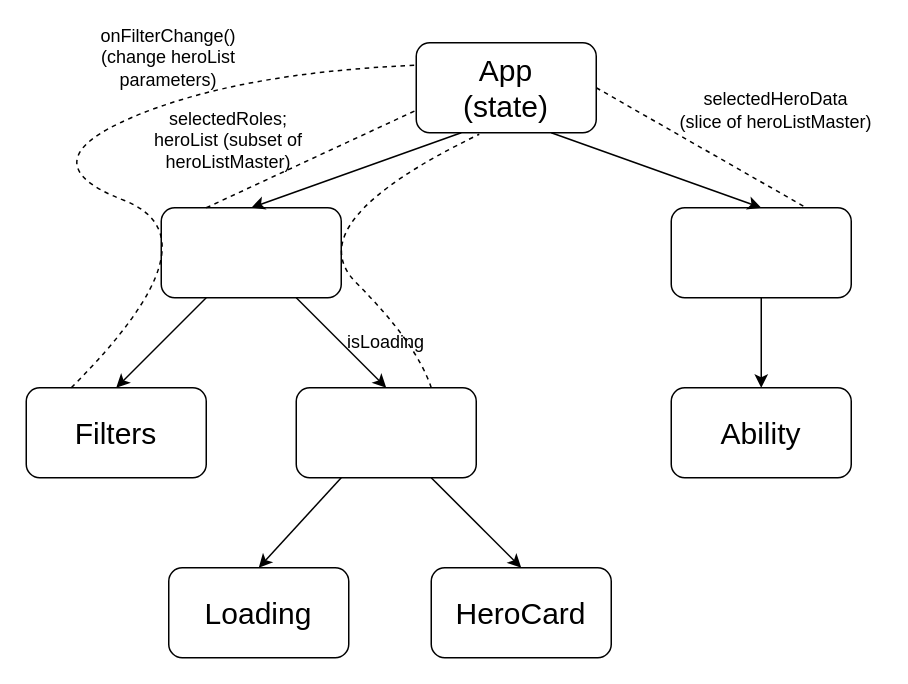
Some shapes in this 908 by 684 pixel diagram are drawn without their labels. The shapes that lost their labels are listed below. From the top down, each one's box as (x1, y1, x2, y2) in pixels, then its label:
(160, 206, 341, 298): Home
(670, 206, 851, 298): HeroDetails
(295, 386, 476, 478): HeroList
